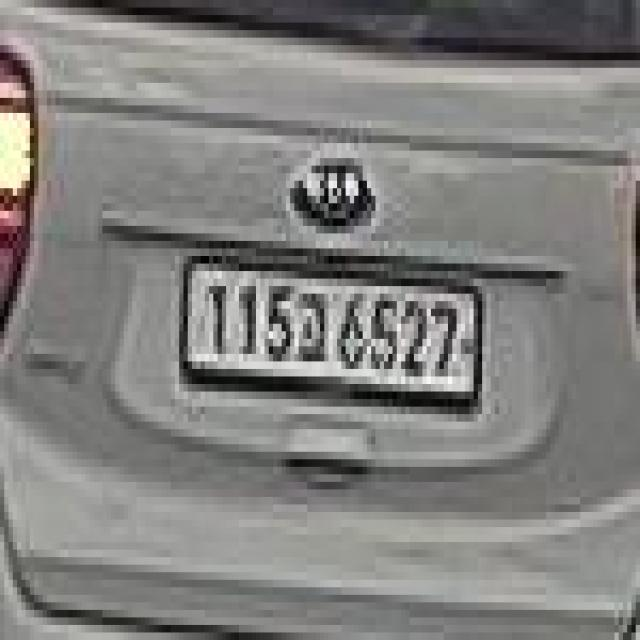illegal_plate: (178, 248, 485, 424)
